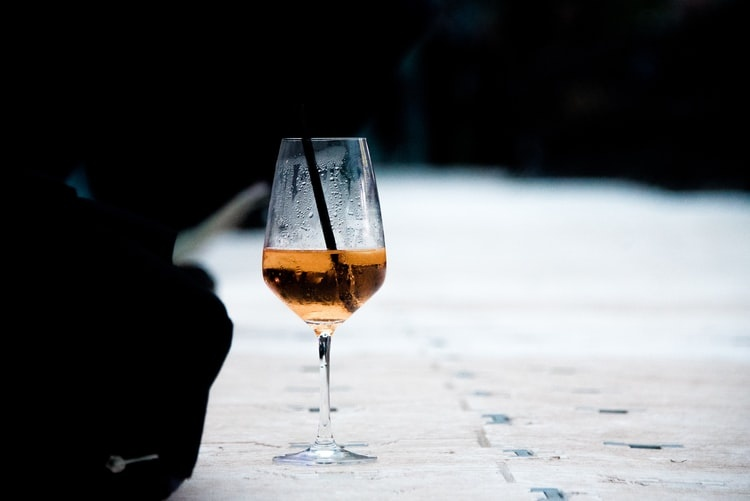whiskey: (261, 130, 386, 453)
